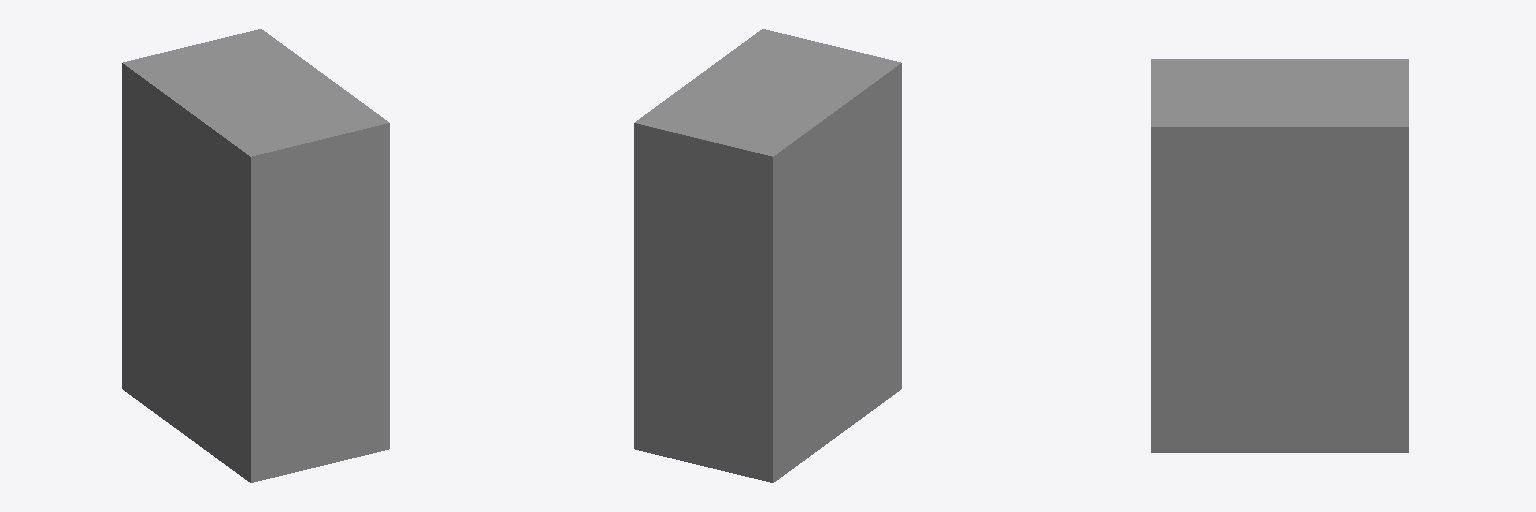
3 views of the same model, side by side, from view 1: azimuth 30°, elevation 25°; view 2: azimuth 150°, elevation 25°; view 3: azimuth 270°, elevation 25° (orthographic).
Visible parts, largest first — view 1: SketchUp_ID3.004; view 2: SketchUp_ID3.004; view 3: SketchUp_ID3.004.
Part boxes in pixels (x1,y1,x2,y2): SketchUp_ID3.004: (122,29,389,482); SketchUp_ID3.004: (634,29,901,482); SketchUp_ID3.004: (1151,59,1408,452).
Size of the model in its own units: 5 by 11.2 by 8.